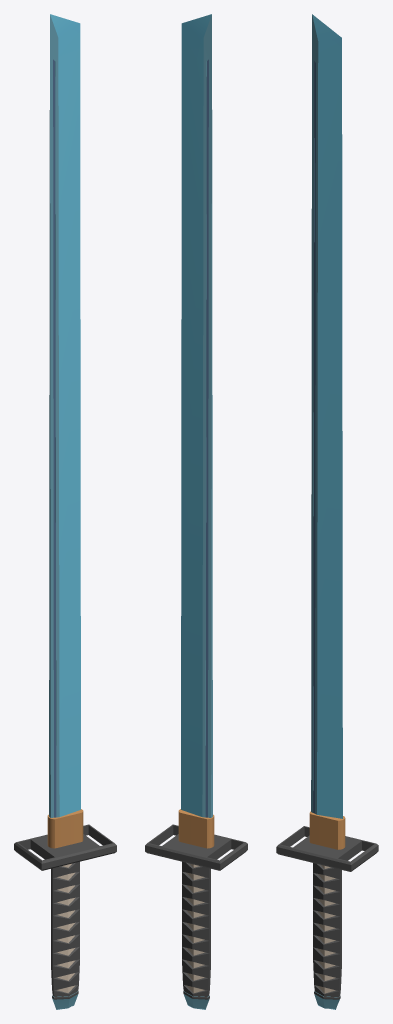
The model's file is SM_Sword03_Chokuto_6Fantasy_Blue.fbx.
The picture shows the model from 3 angles, left to right: view 1: azimuth 30°, elevation 25°; view 2: azimuth 150°, elevation 25°; view 3: azimuth 330°, elevation 25°; orthographic projection.
Parts seen in each view (by area): view 1: Cube.448, Torus.033, Cylinder.645, Cylinder.644, Sphere.126; view 2: Cube.448, Torus.033, Cylinder.645, Cylinder.644, Sphere.126; view 3: Cube.448, Torus.033, Cylinder.645, Cylinder.644, Sphere.126.
Boxes of the visible parts, <box> form: Cube.448: <box>49,14,80,817</box>; Torus.033: <box>51,861,79,996</box>; Cylinder.645: <box>14,824,116,870</box>; Cylinder.644: <box>47,809,83,848</box>; Sphere.126: <box>52,991,78,1009</box>; Cube.448: <box>181,14,212,817</box>; Torus.033: <box>182,861,210,996</box>; Cylinder.645: <box>145,824,247,870</box>; Cylinder.644: <box>178,809,214,848</box>; Sphere.126: <box>183,991,209,1009</box>; Cube.448: <box>311,14,342,818</box>; Torus.033: <box>313,863,341,997</box>; Cylinder.645: <box>276,826,378,871</box>; Cylinder.644: <box>309,811,345,849</box>; Sphere.126: <box>314,991,340,1009</box>.
Size of the model in its own units: 0.0654 by 0.828 by 0.0413.
